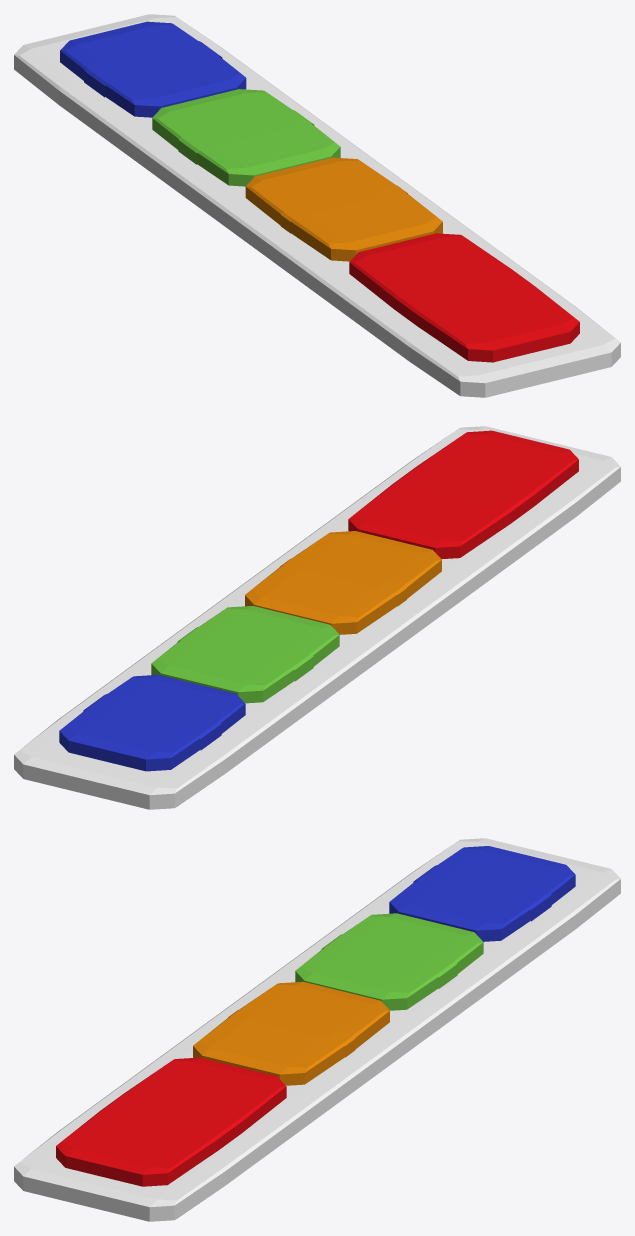
File: tbhard.fbx
3 views of the same model, one above another, from view 1: azimuth 30°, elevation 25°; view 2: azimuth 150°, elevation 25°; view 3: azimuth 330°, elevation 25° (orthographic).
Visible parts, largest first — view 1: Cube.002; view 2: Cube.002; view 3: Cube.002.
Boxes of the visible parts, x1=… form: Cube.002: x1=14, y1=14, x2=620, y2=397; Cube.002: x1=14, y1=426, x2=620, y2=809; Cube.002: x1=14, y1=838, x2=620, y2=1221.
Bounding box in the file's own units: 283 × 54 × 1363.
